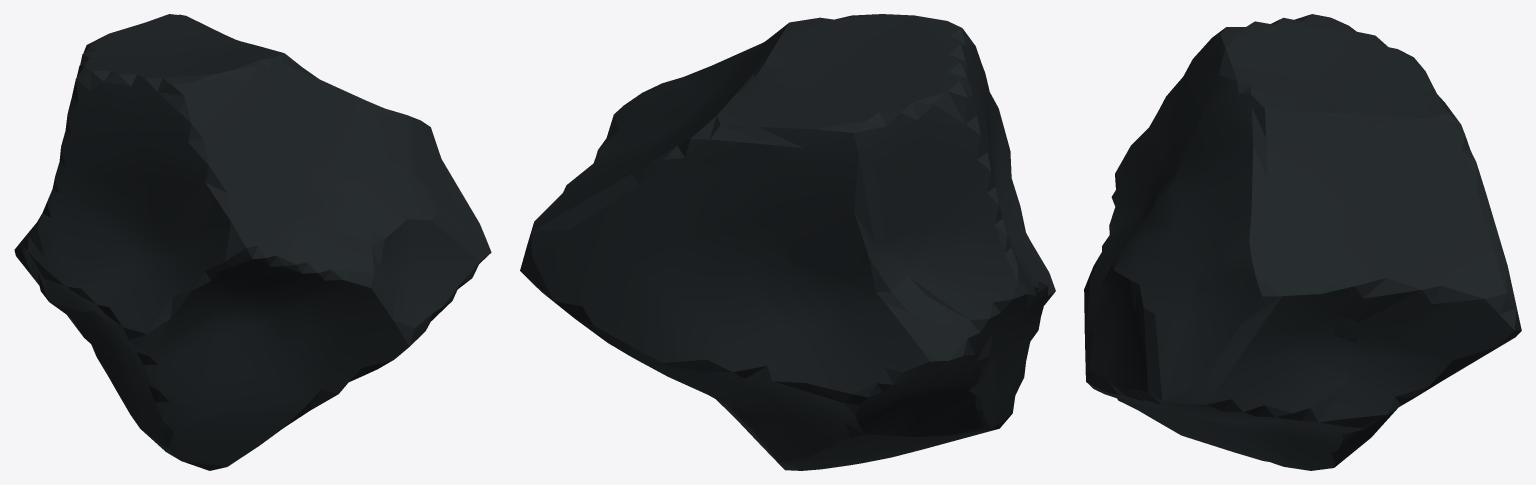
Rendered from Asteroid_l_10.FBX.
3 views of the same model, side by side, from view 1: azimuth 30°, elevation 25°; view 2: azimuth 150°, elevation 25°; view 3: azimuth 270°, elevation 25° (orthographic). The views are drawn at different scales.
Parts seen in each view (by area): view 1: Asteroid_l_10; view 2: Asteroid_l_10; view 3: Asteroid_l_10.
Boxes of the visible parts, x1,y1,x2,y2 form: Asteroid_l_10: [14, 14, 491, 470]; Asteroid_l_10: [520, 14, 1055, 470]; Asteroid_l_10: [1084, 14, 1521, 470].
Size of the model in its own units: 1055 by 969 by 962.
